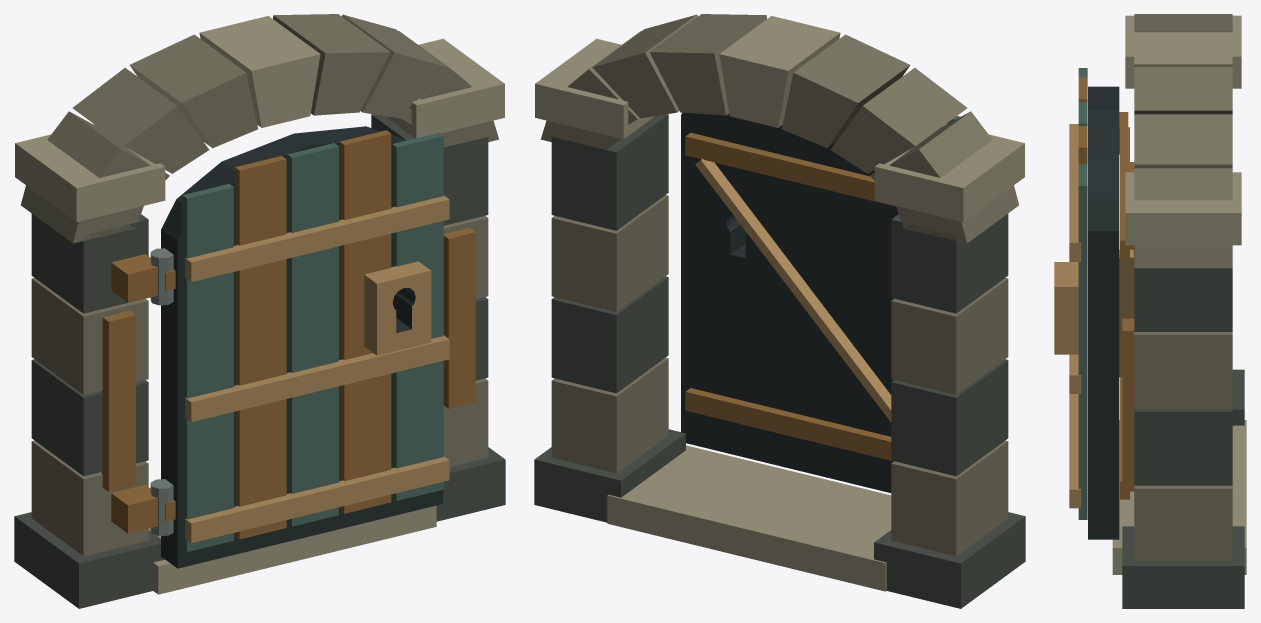
File: KEYED_GATE.shadow.glb
3 renders of one model, left to right at view 1: azimuth 30°, elevation 25°; view 2: azimuth 150°, elevation 25°; view 3: azimuth 270°, elevation 25°, orthographic. The views are drawn at different scales.
Visible parts, largest first — view 1: Body_Mesh, DoorPivot_Mesh; view 2: Body_Mesh, DoorPivot_Mesh; view 3: Body_Mesh, DoorPivot_Mesh.
Part boxes in pixels (<box>): Body_Mesh: <box>14,14,505,608</box>; DoorPivot_Mesh: <box>161,126,449,568</box>; Body_Mesh: <box>534,14,1025,608</box>; DoorPivot_Mesh: <box>681,112,960,492</box>; Body_Mesh: <box>1112,14,1246,608</box>; DoorPivot_Mesh: <box>1054,68,1133,539</box>.
Size of the model in its own units: 2.37 by 2.59 by 0.975.
